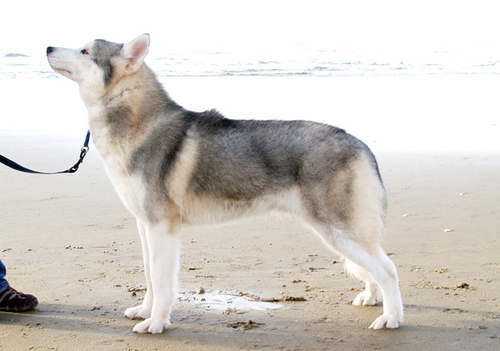dog: (46, 29, 405, 335)
